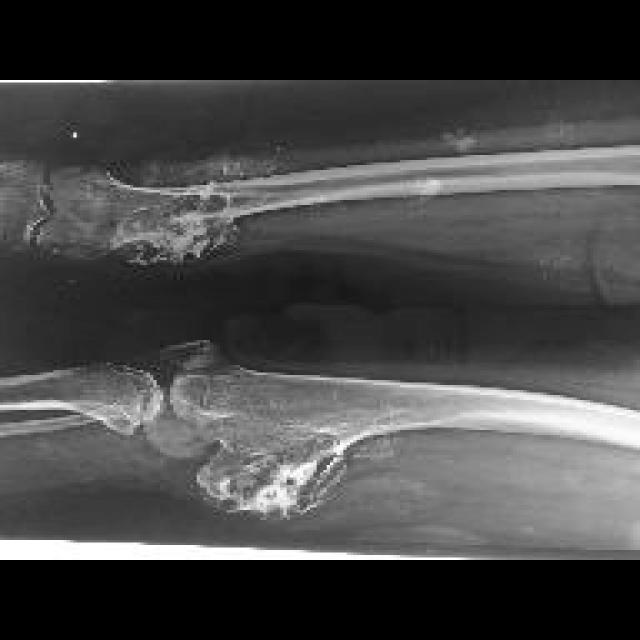bone-cancer: (190, 416, 362, 523), (114, 192, 248, 266)
